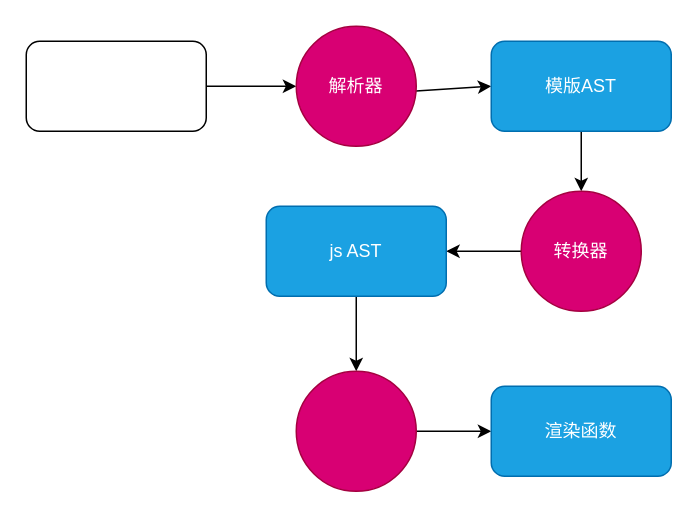
This 698x518 diagram has some shape labels left out. Each missing label, with the centre of its shape:
"模版" belongs at point 115,85.
"生成器" belongs at point 355,430.
